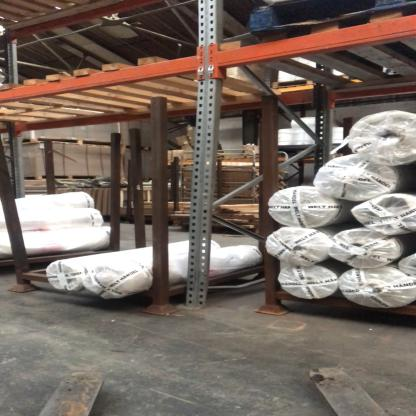vertical_damage: (178, 277, 218, 316)
